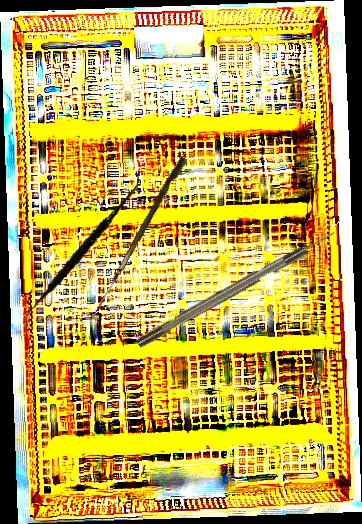Hook Surgical: (134, 228, 338, 349), (92, 154, 188, 321)
Spatula Surgical: (22, 158, 141, 341)
